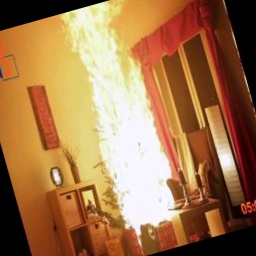fire: (45, 0, 202, 246)
